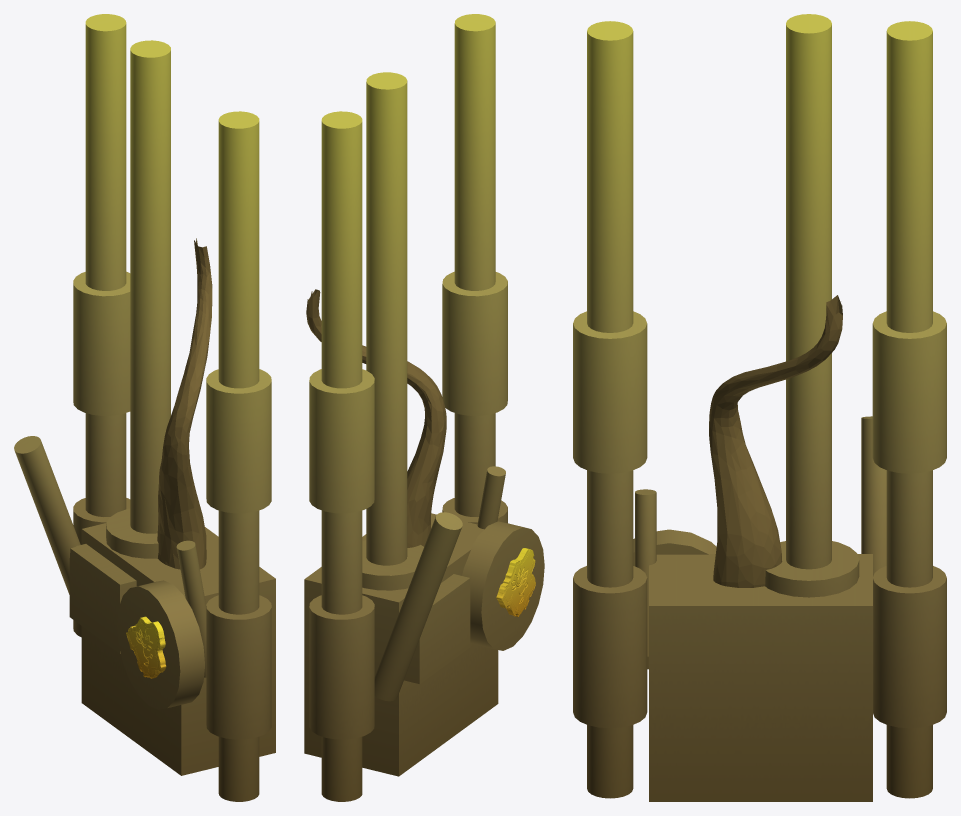
Rendered from SM_Mech.fbx.
3 renders of one model, left to right at view 1: azimuth 30°, elevation 25°; view 2: azimuth 150°, elevation 25°; view 3: azimuth 270°, elevation 25°, orthographic. The views are drawn at different scales.
Parts seen in each view (by area): view 1: SM_Mech; view 2: SM_Mech; view 3: SM_Mech.
Part boxes in pixels (x1,y1,x2,y2): SM_Mech: (14,14,275,801); SM_Mech: (304,14,544,801); SM_Mech: (573,14,946,801).
Size of the model in its own units: 211 by 802 by 351.
